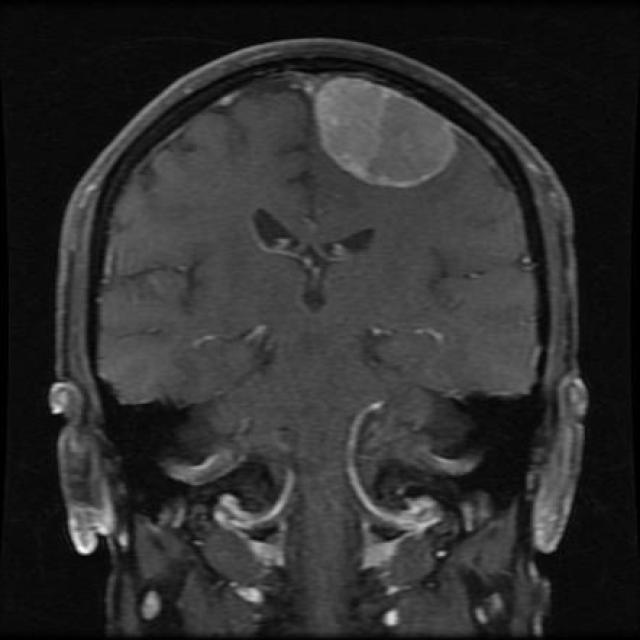brain_tumor: (314, 76, 458, 187)
